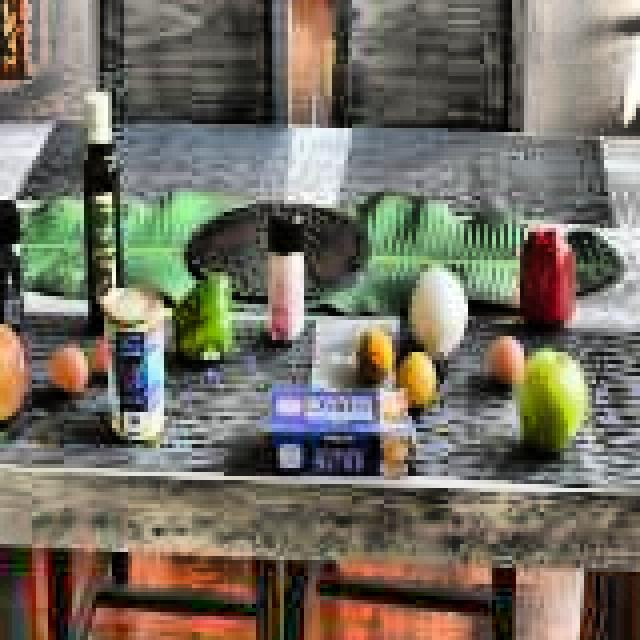bell_pepper: (516, 220, 582, 324), (172, 272, 234, 364)
egg: (484, 328, 530, 394), (52, 340, 96, 400), (92, 340, 118, 384)
onion: (408, 256, 470, 346)
